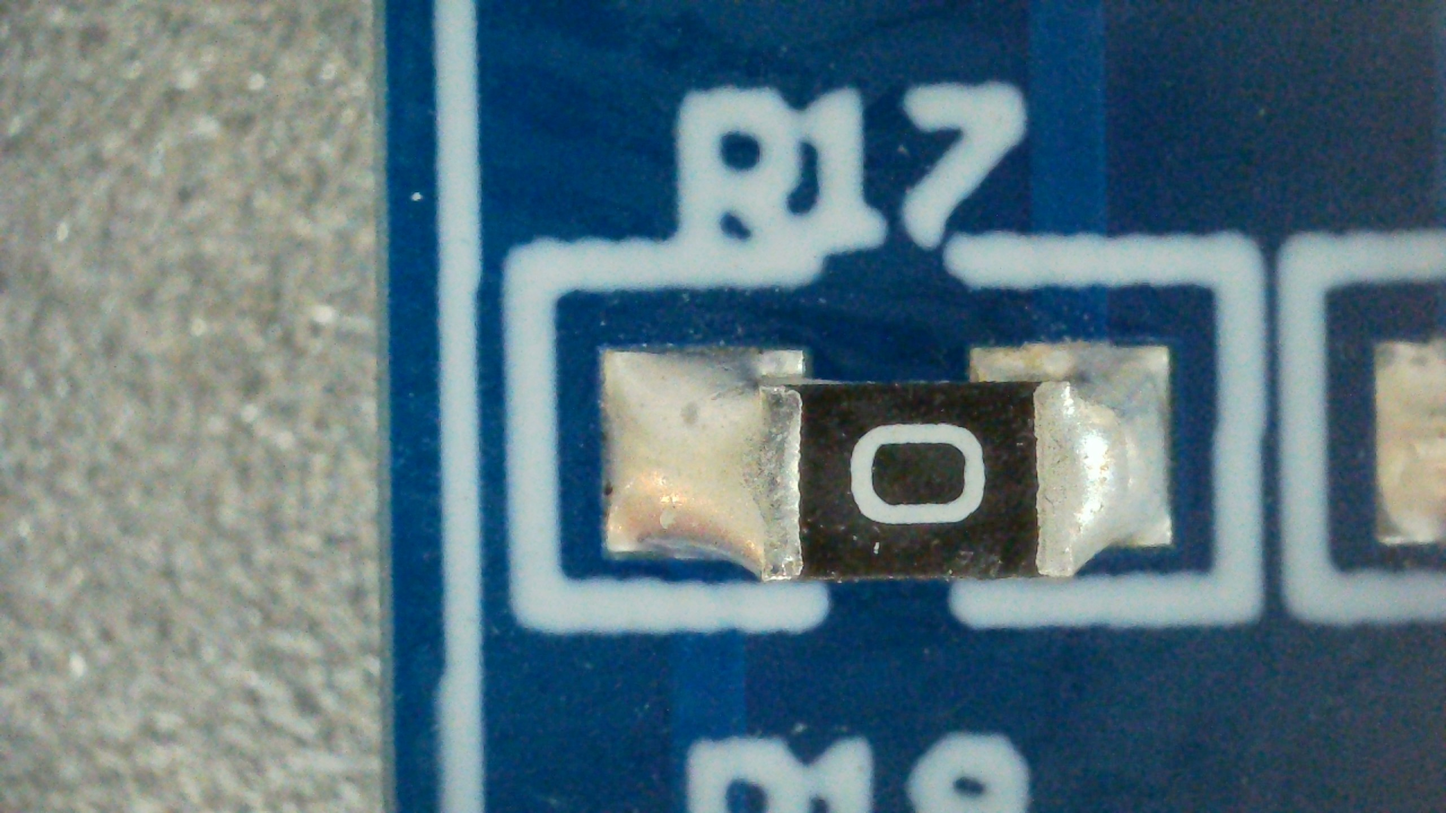NG: (602, 342, 1170, 581)
